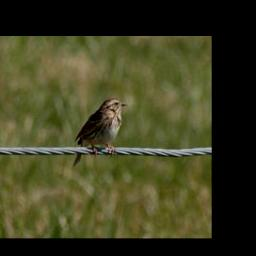Sparrow: (72, 96, 131, 168)
